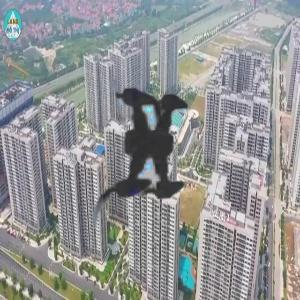drone: (15, 1, 292, 278)
